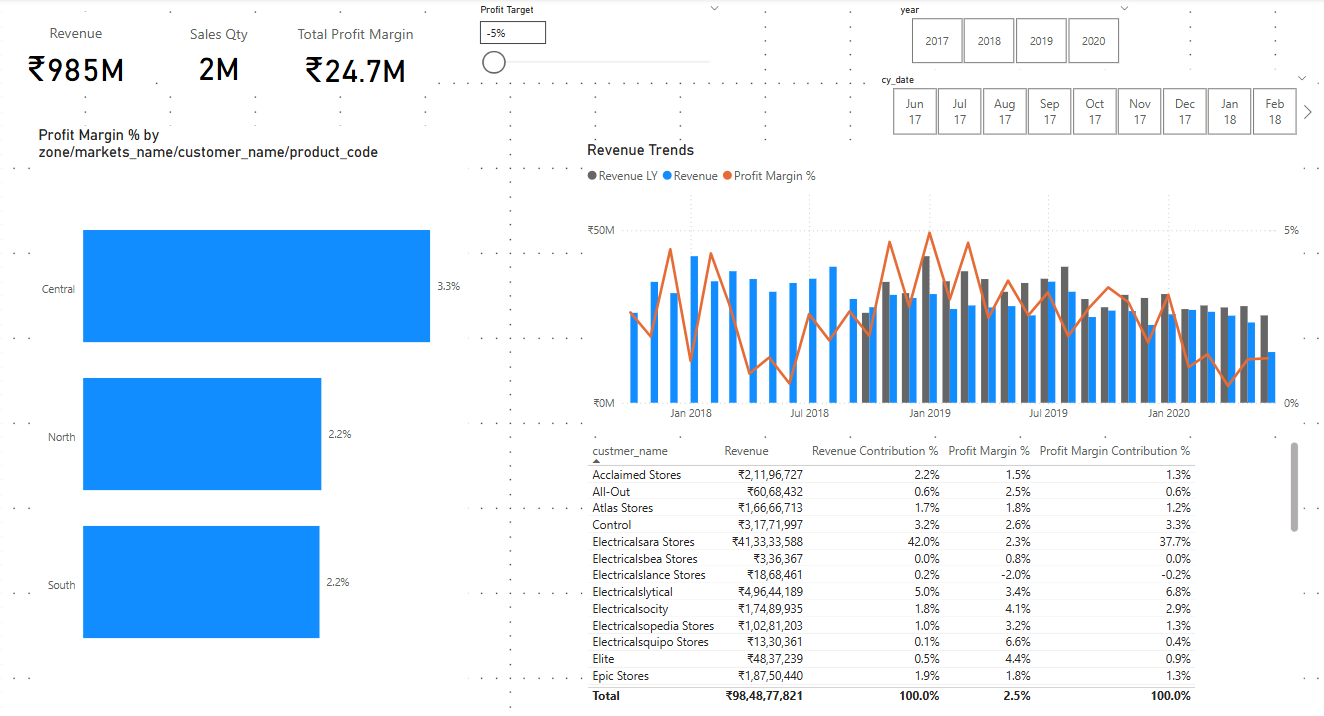

The dashboard page shown, as its layout file describes it:
{"tool":"powerbi","page":{"name":"Duplicate of Duplicate of Page 1","canvas":[1500,816],"ordinal":2},"visuals":[{"type":"textbox","box":[78,336,299,301],"z":0},{"type":"cardVisual","fields":{"Data":["BaseMeasures.Revenue"]},"box":[0,15.5,172.2,103.1],"z":1000},{"type":"cardVisual","fields":{"Data":["BaseMeasures.Sales Qty"]},"box":[182.1,16.9,131.3,103.1],"z":2000},{"type":"slicer","fields":{"Values":["sales date.year"]},"box":[1003.8,1.4,283.8,79.1],"z":3000},{"type":"slicer","fields":{"Values":["sales date.cy_date"]},"box":[982.6,80.5,505.4,80.5],"z":4000},{"type":"tableEx","title":"Top 5 Customers","fields":{"Values":["sales customers.custmer_name","BaseMeasures.Revenue","BaseMeasures.Revenue Contribution %","BaseMeasures.Profit Margin %","BaseMeasures.Profit Margin Contribution %"]},"box":[657.9,501.2,814.6,314.8],"z":5000},{"type":"lineClusteredColumnComboChart","title":"Revenue Trends","fields":{"Category":["sales date.cy_date"],"Y":["BaseMeasures.Revenue LY","BaseMeasures.Revenue"],"Y2":["BaseMeasures.Profit Margin %"]},"box":[657.9,160.9,814.6,326.1],"z":6000},{"type":"cardVisual","fields":{"Data":["BaseMeasures.Total Profit Margin"]},"box":[313.4,16.9,177.9,103.1],"z":7000},{"type":"barChart","title":"Profit Margin % by zone/markets_name/customer_name/product_code","fields":{"Category":["sales markets.zone","sales markets.markets_name","sales customers.custmer_name","sales products.product_code"],"Y":["BaseMeasures.Profit Margin %"]},"box":[38.1,144,491.3,672],"z":8000},{"type":"slicer","fields":{"Values":["Profit Target.Profit Target"]},"box":[529.4,1.4,295.1,93.2],"z":9000}]}

Visuals, with their boxes in screenshot pixels (x1, y1, x2, y2), scaled from the page's 1500x816 canvas onto the 1324x716 screenshot:
textbox: [69, 295, 333, 559]
cardVisual - BaseMeasures.Revenue: [0, 14, 152, 104]
cardVisual - BaseMeasures.Sales Qty: [161, 15, 277, 105]
slicer - sales date.year: [886, 1, 1137, 71]
slicer - sales date.cy_date: [867, 71, 1313, 141]
"Top 5 Customers" tableEx: [581, 440, 1300, 715]
"Revenue Trends" lineClusteredColumnComboChart: [581, 141, 1300, 427]
cardVisual - BaseMeasures.Total Profit Margin: [277, 15, 434, 105]
"Profit Margin % by zone/markets_name/customer_name/product_code" barChart: [34, 126, 467, 715]
slicer - Profit Target.Profit Target: [467, 1, 728, 83]
